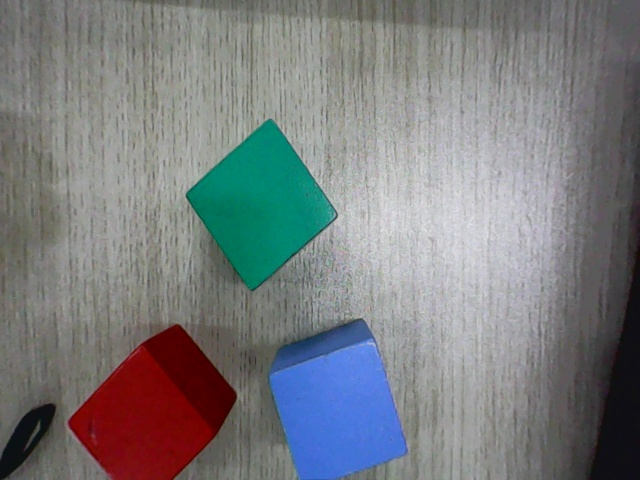upside of big cube: (184, 119, 337, 291), (67, 346, 216, 479), (268, 339, 409, 479)
